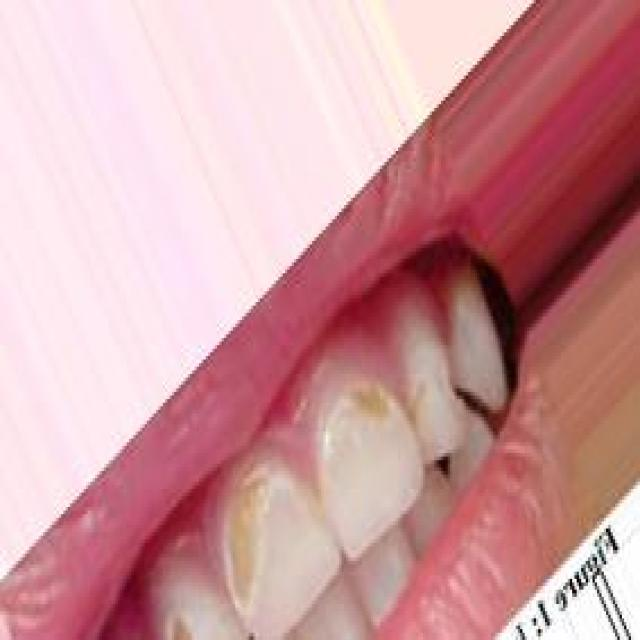caries: (220, 471, 277, 621), (330, 377, 410, 433), (158, 600, 209, 640)
